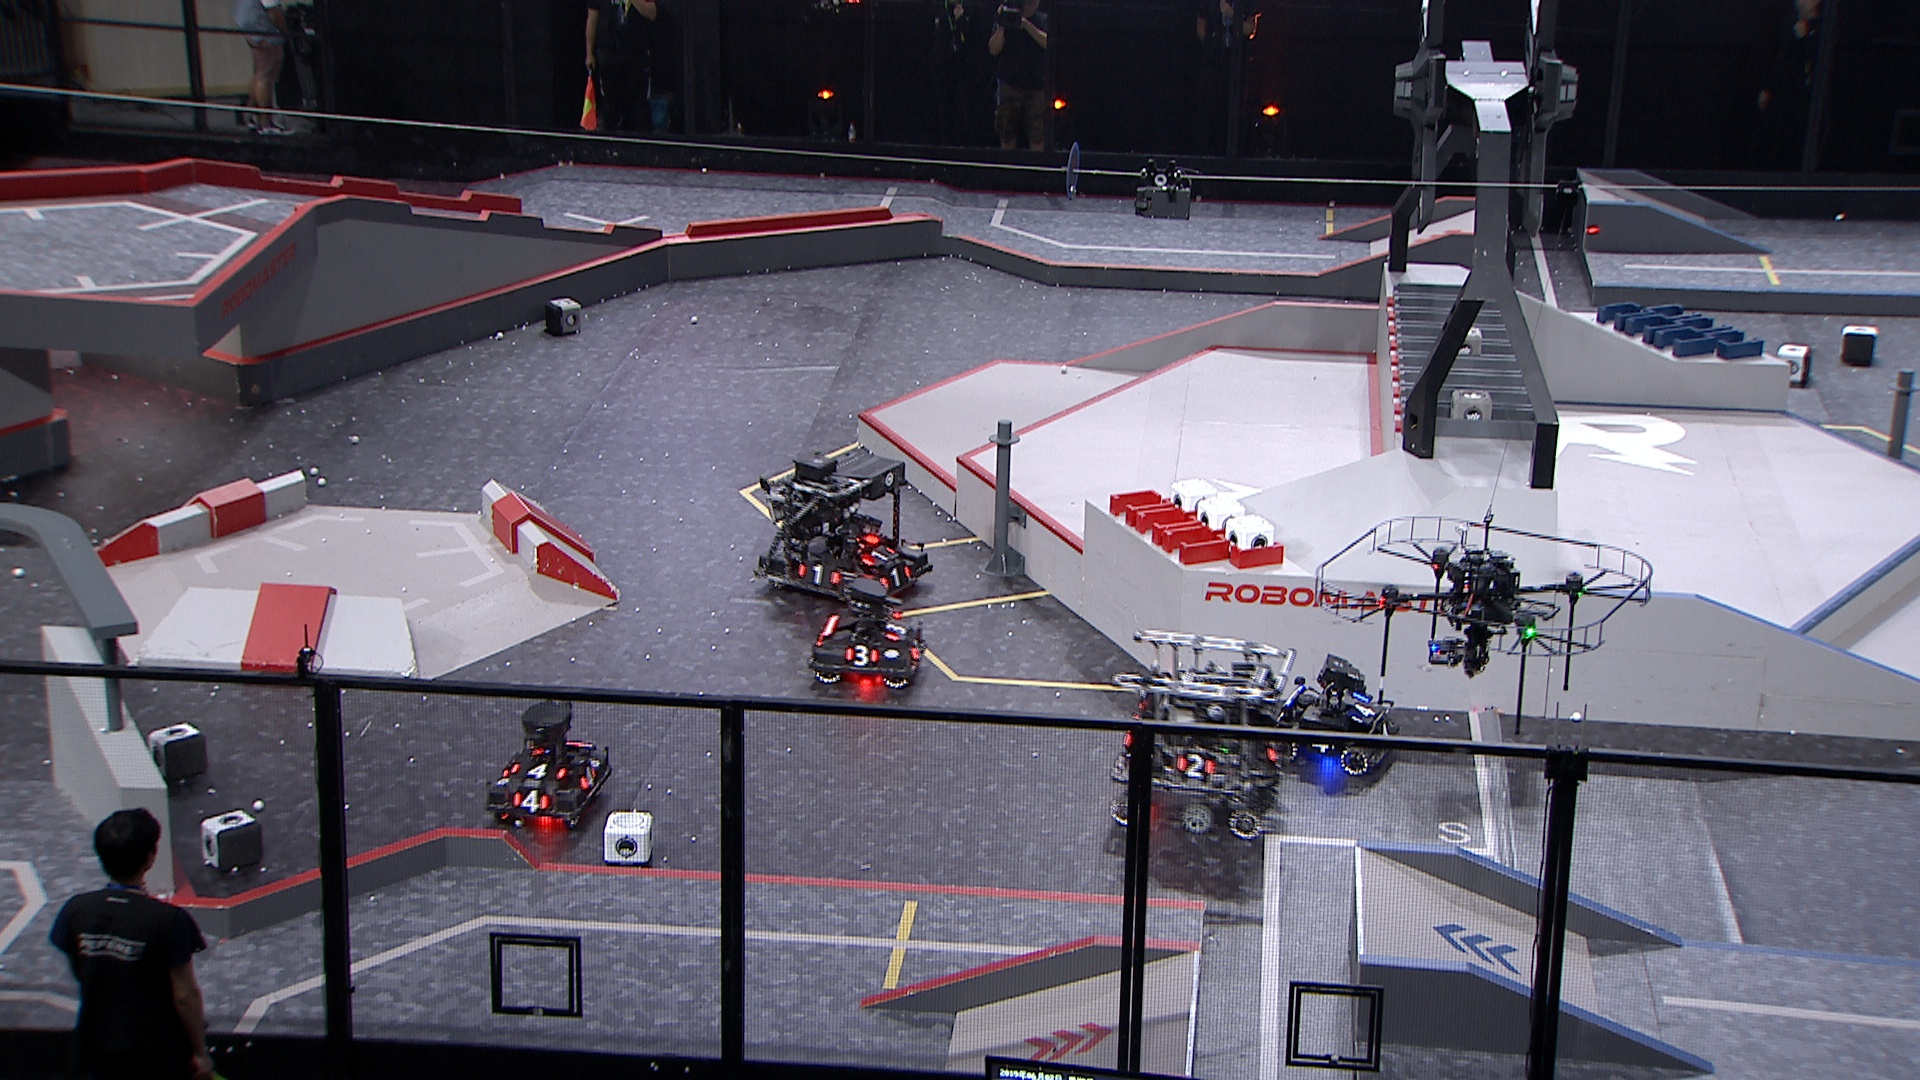armor: (508, 760, 568, 782), (1172, 752, 1216, 779), (795, 564, 843, 589), (510, 790, 551, 818), (843, 645, 884, 669), (880, 564, 913, 589), (860, 543, 895, 564), (1349, 703, 1378, 723), (882, 621, 910, 641), (579, 765, 597, 790)
car: (1105, 626, 1305, 840), (752, 444, 934, 611), (484, 695, 613, 831), (1275, 651, 1404, 777), (811, 578, 928, 694)
